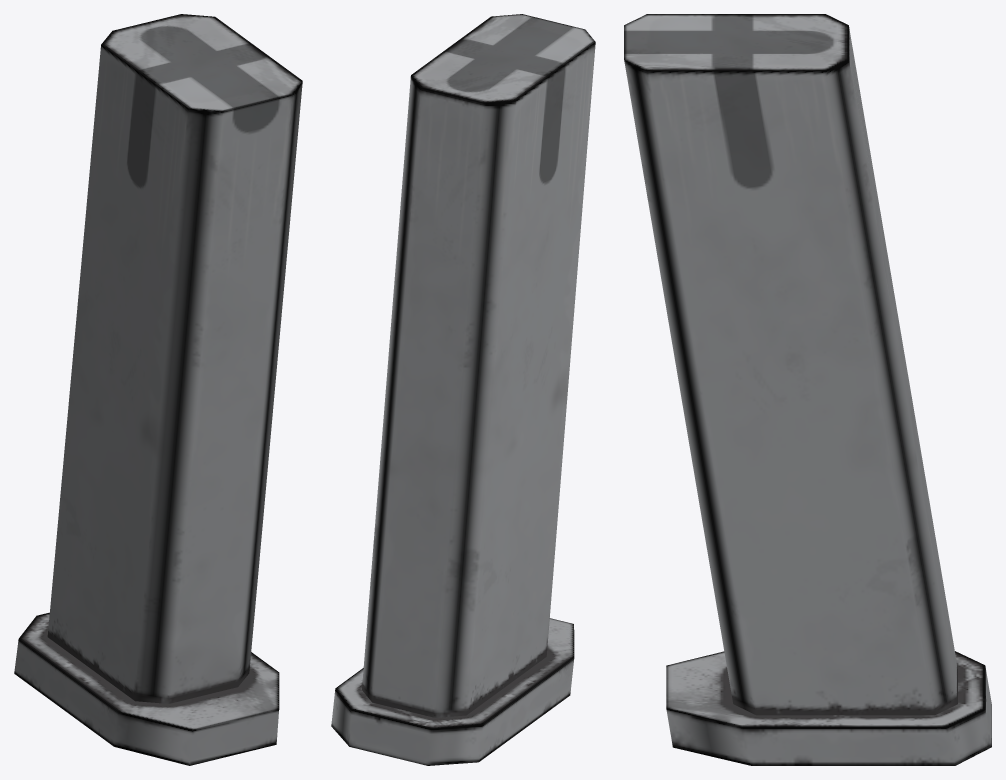
File: DesertEagle_Mag.fbx
The picture shows the model from 3 angles, left to right: view 1: azimuth 30°, elevation 25°; view 2: azimuth 150°, elevation 25°; view 3: azimuth 270°, elevation 25°; orthographic projection. The views are drawn at different scales.
Parts seen in each view (by area): view 1: DesertEagle_Mag; view 2: DesertEagle_Mag; view 3: DesertEagle_Mag.
Boxes of the visible parts, x1,y1,x2,y2 form: DesertEagle_Mag: (14,14,302,765); DesertEagle_Mag: (331,14,595,765); DesertEagle_Mag: (624,14,991,765).
Size of the model in its own units: 30.29 by 120 by 58.73.
